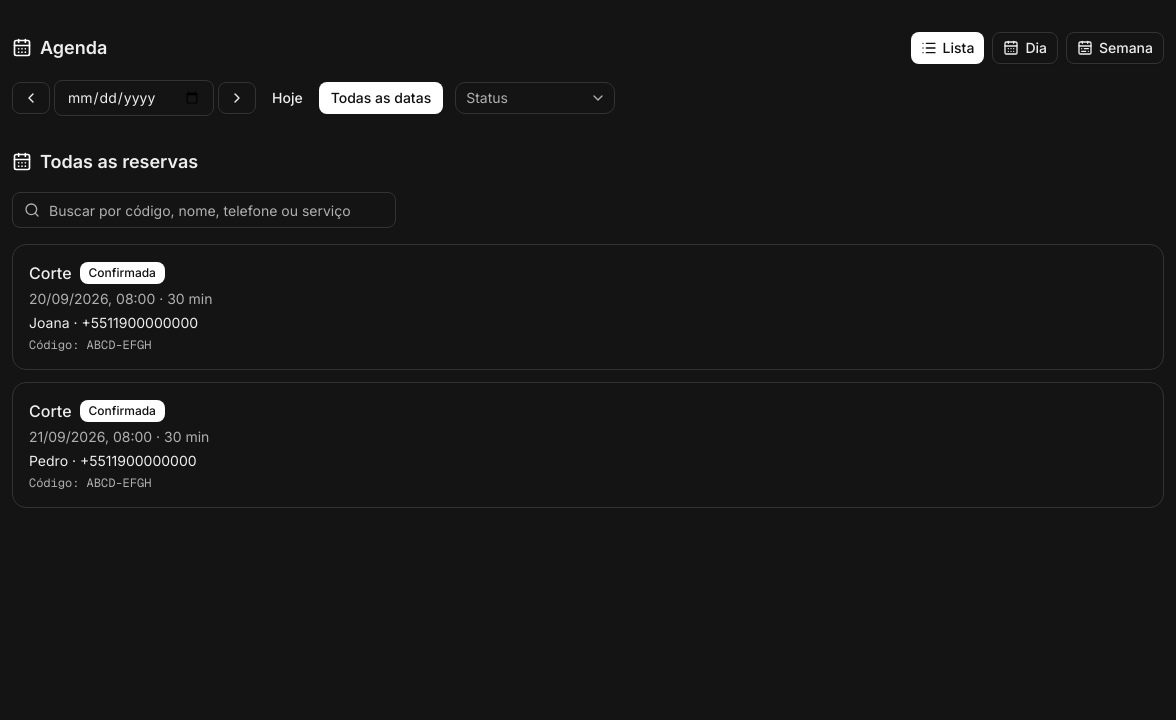
Test: AgendaView list view › filters the list by the selected date
The image size is (1176, 720).
# The date control must be live in the list view too.
Type "2026-09-20" into the date field named "Data" at (134, 98), box [54,80,214,116]
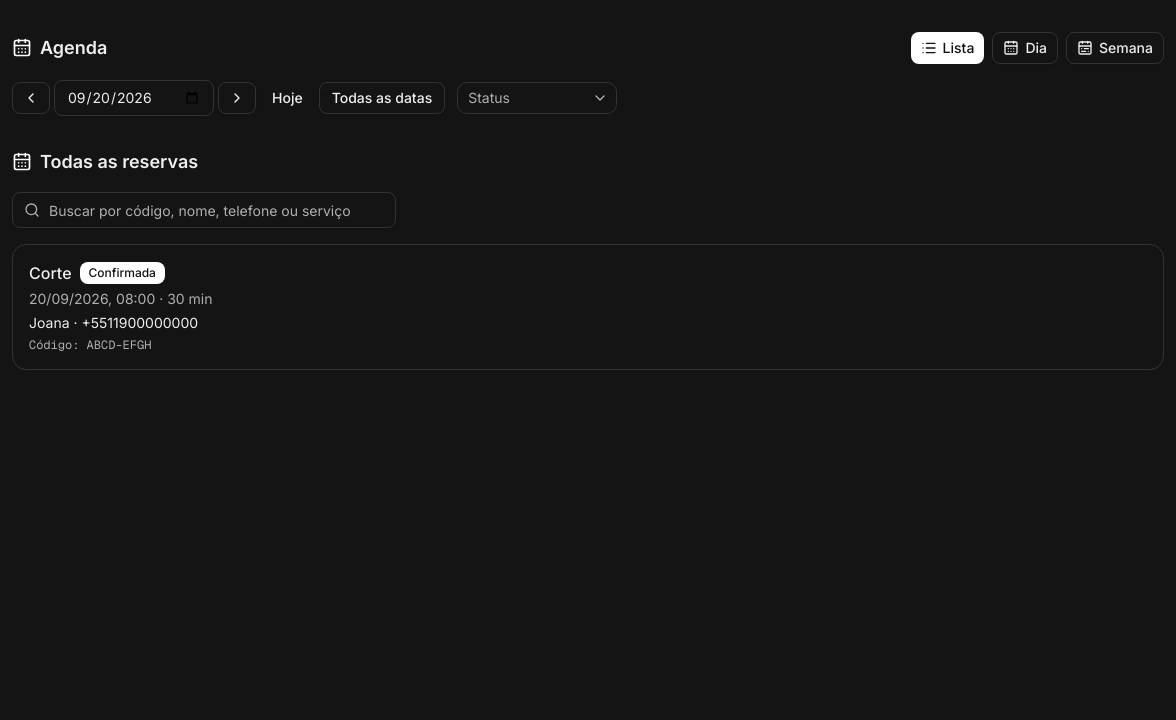
Expected: the text "Joana · +5511900000000" is shown, [29,313,212,333]
Result: the text "Pedro" is gone
